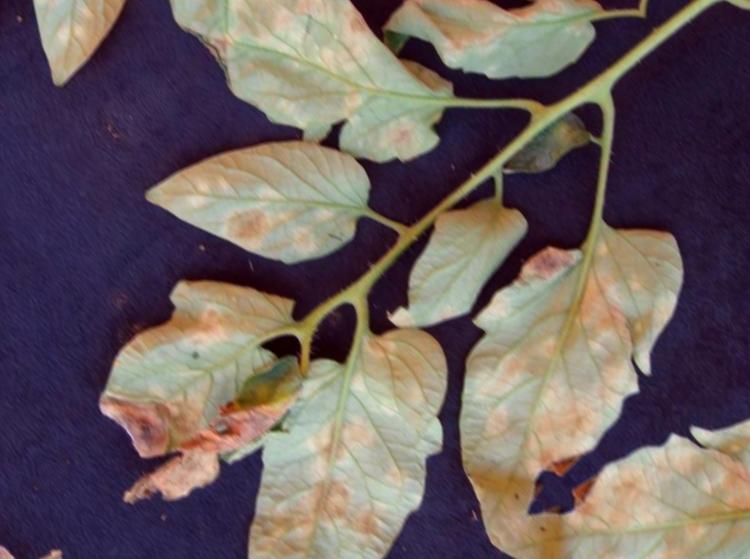Tomato mold leaf: (337, 159, 750, 559), (144, 276, 547, 559), (131, 61, 398, 325), (203, 0, 483, 232), (71, 233, 316, 465), (363, 167, 564, 354), (375, 0, 617, 139)
